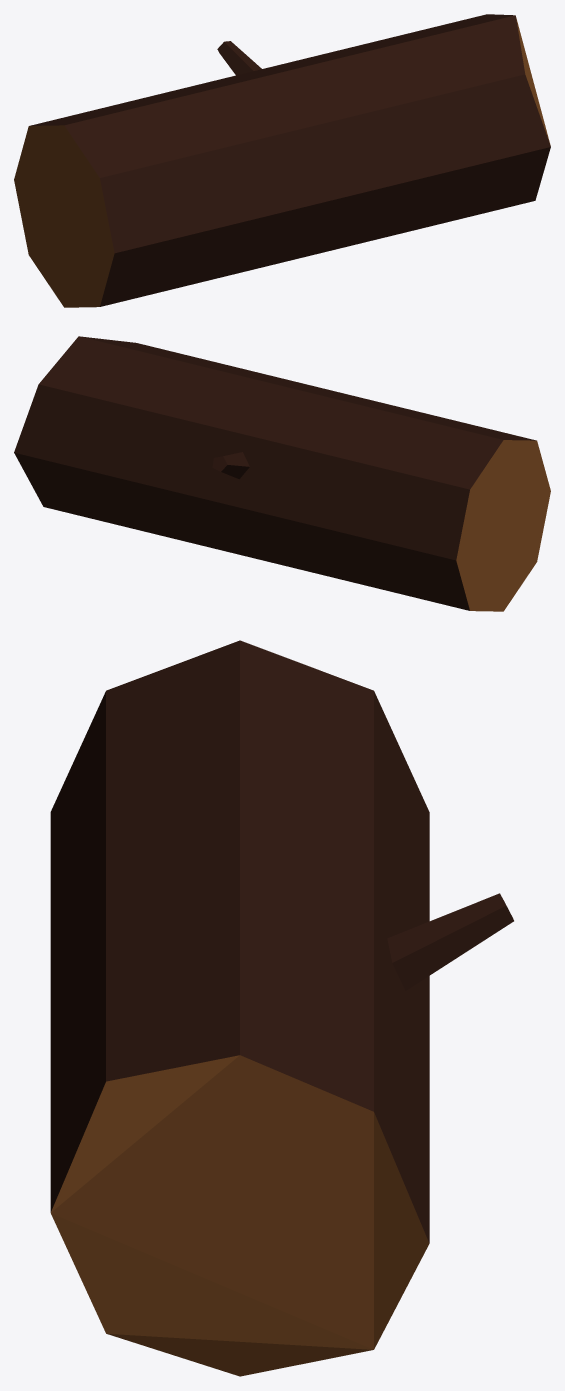
The model's file is Log_Broken_03.fbx.
The picture shows the model from 3 angles, top to bottom: view 1: azimuth 30°, elevation 25°; view 2: azimuth 150°, elevation 25°; view 3: azimuth 270°, elevation 25°; orthographic projection. The views are drawn at different scales.
Visible parts, largest first — view 1: Log_Broken_03_Mesh; view 2: Log_Broken_03_Mesh; view 3: Log_Broken_03_Mesh.
Boxes of the visible parts, left/top/right/bottom form: Log_Broken_03_Mesh: left=14, top=14, right=550, bottom=307; Log_Broken_03_Mesh: left=14, top=336, right=550, bottom=611; Log_Broken_03_Mesh: left=50, top=640, right=513, bottom=1376.
Bounding box in the file's own units: 1.83 × 0.68 × 0.8323.
1 material, 1 textured.
